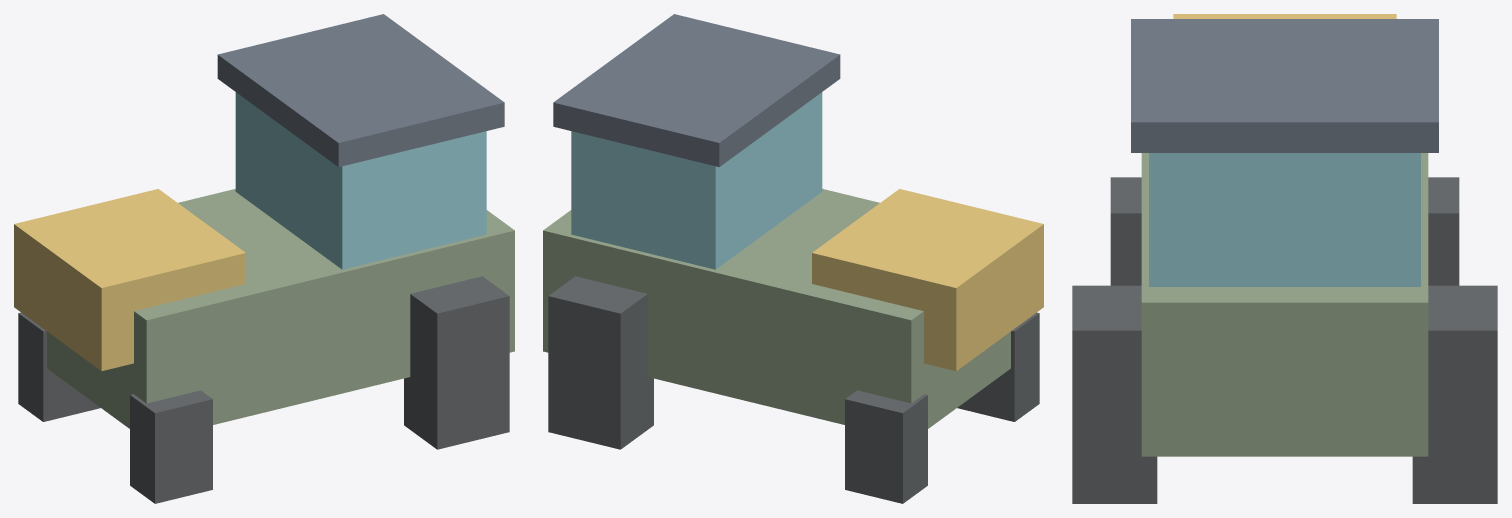
The model's file is farm-tractor.glb.
3 renders of one model, left to right at view 1: azimuth 30°, elevation 25°; view 2: azimuth 150°, elevation 25°; view 3: azimuth 270°, elevation 25°, orthographic. The views are drawn at different scales.
Parts seen in each view (by area): view 1: Tracteur agricole low-poly; view 2: Tracteur agricole low-poly; view 3: Tracteur agricole low-poly.
Boxes of the visible parts, x1,y1,x2,y2 form: Tracteur agricole low-poly: (14, 14, 514, 503); Tracteur agricole low-poly: (543, 14, 1043, 503); Tracteur agricole low-poly: (1072, 14, 1497, 503).
Bounding box in the file's own units: 2.77 × 2.04 × 2.
